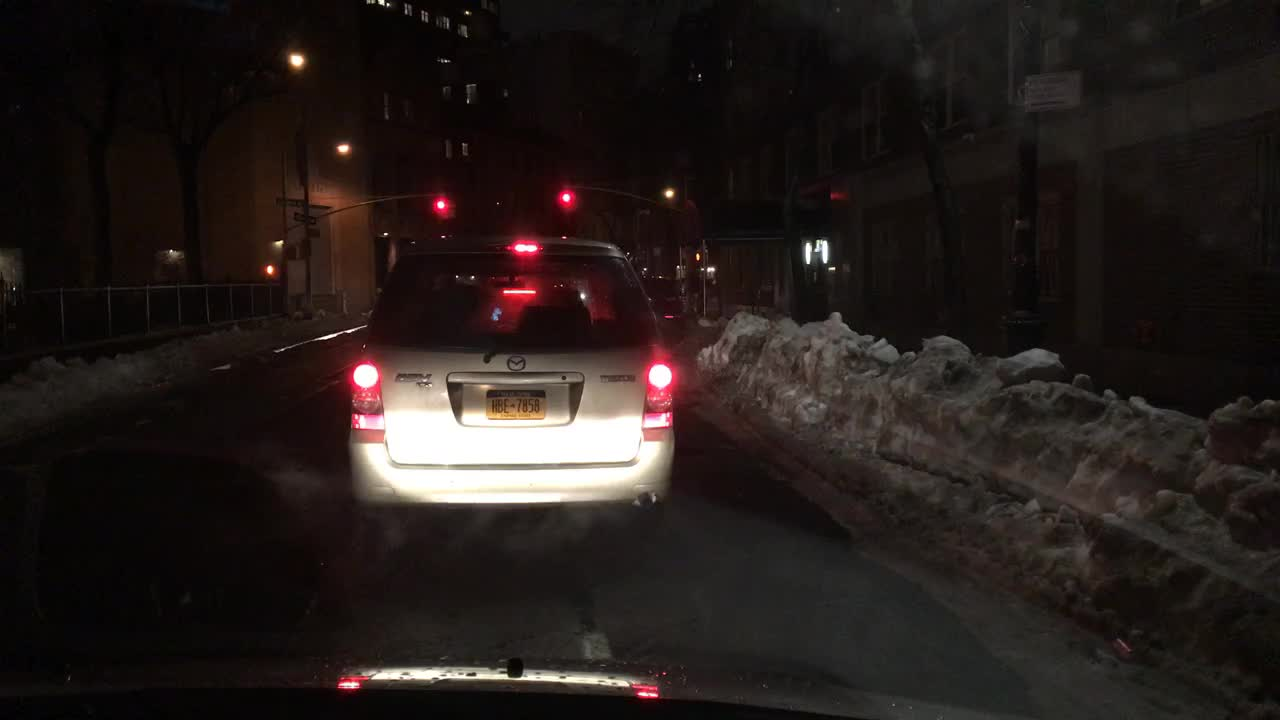car: (340, 235, 678, 514), (646, 277, 691, 341)
traffic light: (436, 195, 445, 217), (691, 248, 704, 262), (561, 187, 570, 207), (265, 264, 277, 279)
traffic sign: (1023, 72, 1080, 111), (284, 237, 310, 259), (275, 194, 306, 207), (291, 210, 319, 224)
